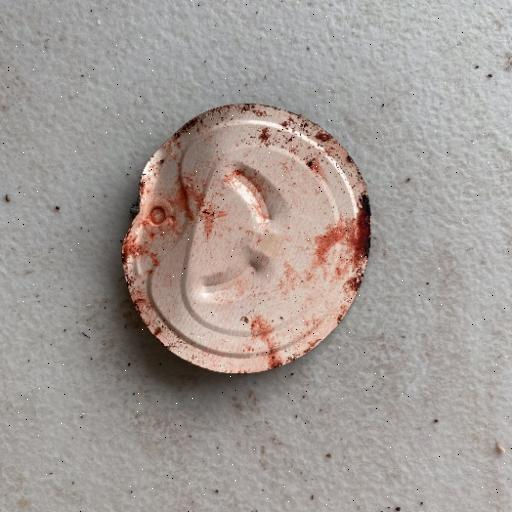Metal: (119, 100, 373, 376)
